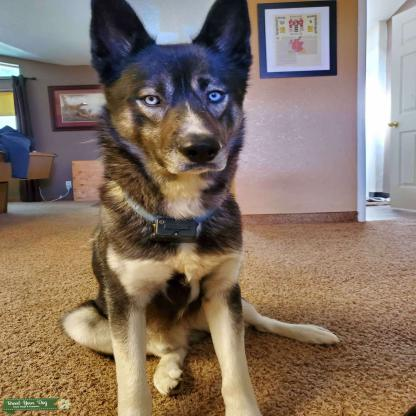husky: (64, 0, 341, 412)
